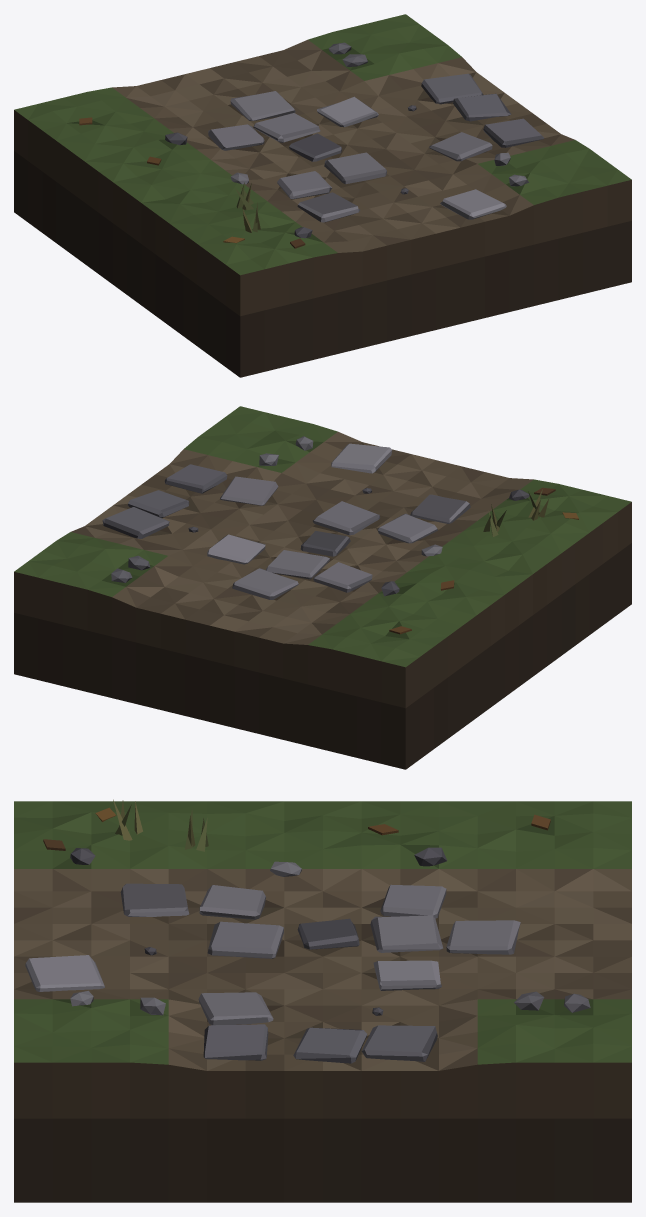
File: haunt_road_t.glb
3 renders of one model, top to bottom at view 1: azimuth 30°, elevation 25°; view 2: azimuth 150°, elevation 25°; view 3: azimuth 270°, elevation 25°, orthographic. The views are drawn at different scales.
Parts seen in each view (by area): view 1: HauntRoadT; view 2: HauntRoadT; view 3: HauntRoadT.
Boxes of the visible parts, x1,y1,x2,y2 form: HauntRoadT: [14, 14, 631, 377]; HauntRoadT: [14, 406, 631, 769]; HauntRoadT: [14, 799, 631, 1202].
Bounding box in the file's own units: 2 × 0.6363 × 2.
